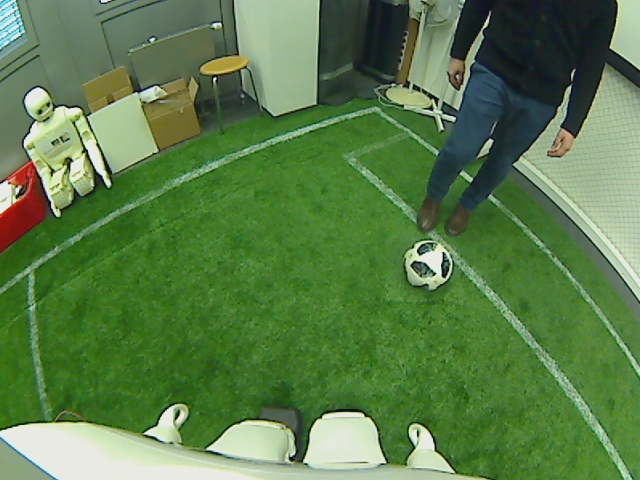ball: (400, 237, 454, 291)
